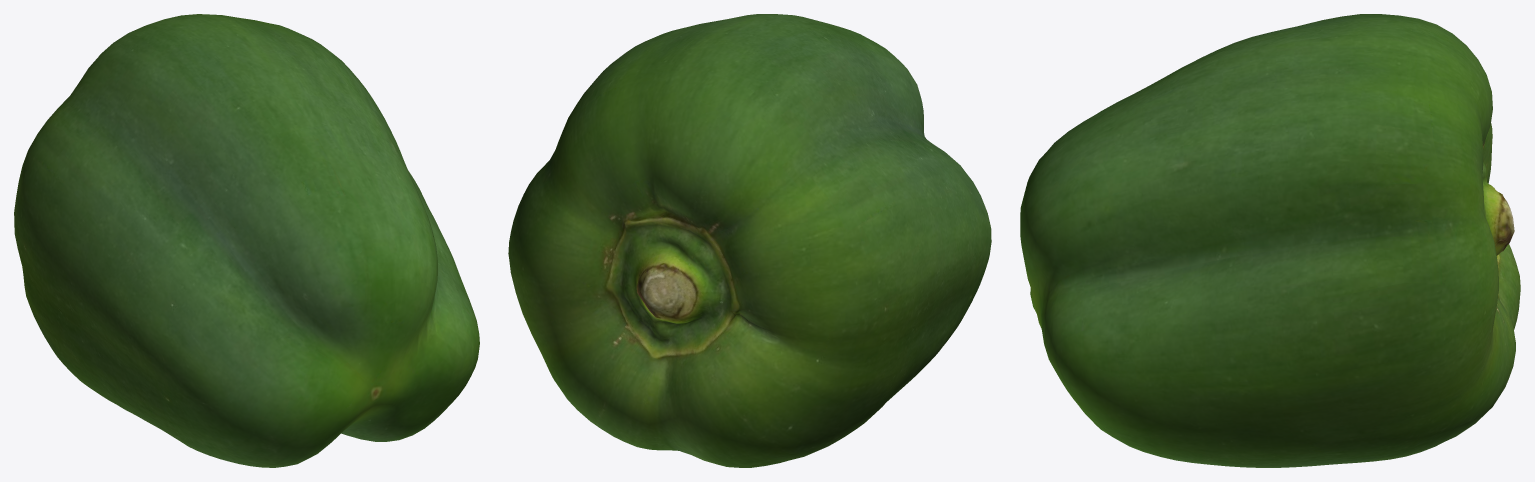
File: Green_bell_pepper_SF.obj
3 views of the same model, side by side, from view 1: azimuth 30°, elevation 25°; view 2: azimuth 150°, elevation 25°; view 3: azimuth 270°, elevation 25° (orthographic). The views are drawn at different scales.
Visible parts, largest first — view 1: Retopo_Vihrea_Paprika_mesh; view 2: Retopo_Vihrea_Paprika_mesh; view 3: Retopo_Vihrea_Paprika_mesh.
Part boxes in pixels (x1,y1,x2,y2): Retopo_Vihrea_Paprika_mesh: [14, 14, 479, 467]; Retopo_Vihrea_Paprika_mesh: [508, 14, 991, 467]; Retopo_Vihrea_Paprika_mesh: [1020, 14, 1520, 467].
Bounding box in the file's own units: 0.0458 × 0.0449 × 0.0517.
1 material, 1 textured.
